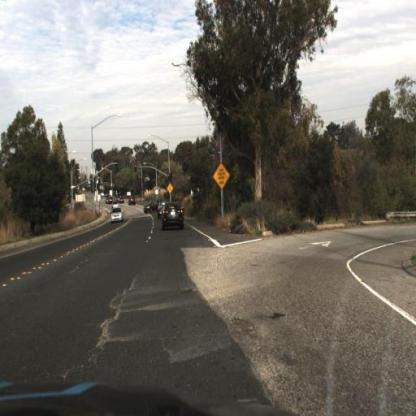car: (162, 201, 187, 233), (156, 198, 169, 223), (109, 207, 126, 226), (142, 197, 157, 216), (113, 205, 127, 223)
trafficLight-Red: (132, 157, 140, 181), (166, 169, 174, 187)
